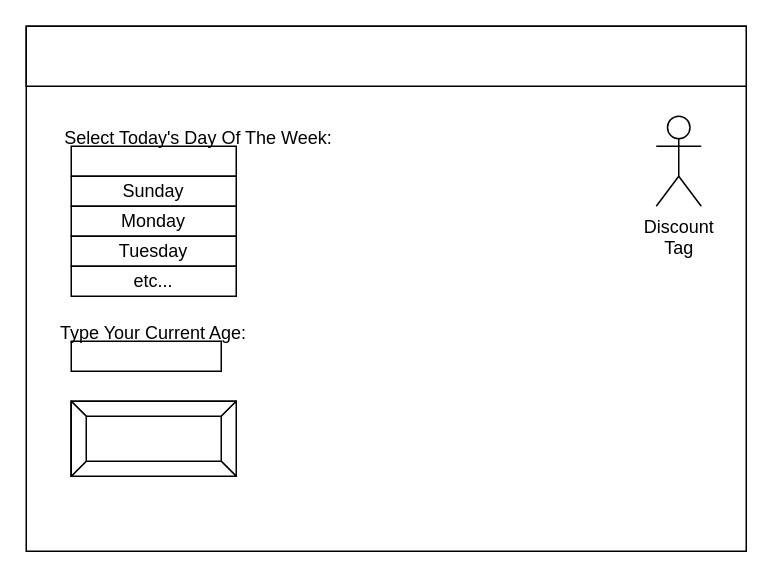
This 773x578 diagram has some shape labels left out. The shapes that lost their labels are listed below. From the top down, each one's centre as x and y in pixels, then its label:
At point (385, 55): "Discount Manager, JS".
At point (153, 438): "Am I Eligible?".
